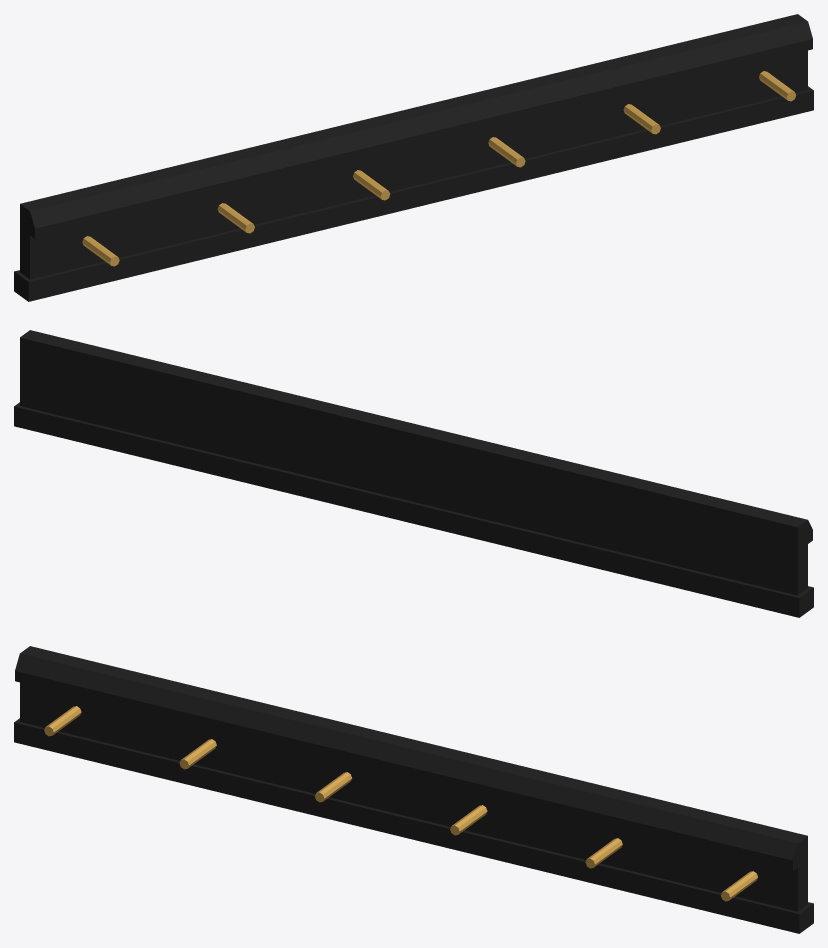
File: Prop_WallHanger_01.fbx
3 views of the same model, one above another, from view 1: azimuth 30°, elevation 25°; view 2: azimuth 150°, elevation 25°; view 3: azimuth 330°, elevation 25° (orthographic).
Visible parts, largest first — view 1: Prop_WallHanger_01; view 2: Prop_WallHanger_01; view 3: Prop_WallHanger_01.
Part boxes in pixels (x1,y1,x2,y2): Prop_WallHanger_01: (14, 14, 813, 301); Prop_WallHanger_01: (14, 330, 813, 617); Prop_WallHanger_01: (14, 646, 813, 933).
Bounding box in the file's own units: 68.99 × 7.4 × 6.12.
